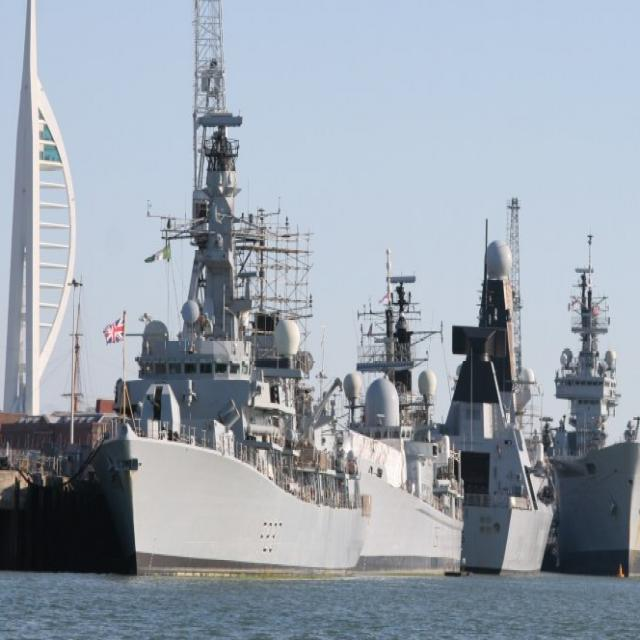Portanaves: (531, 228, 640, 584)
